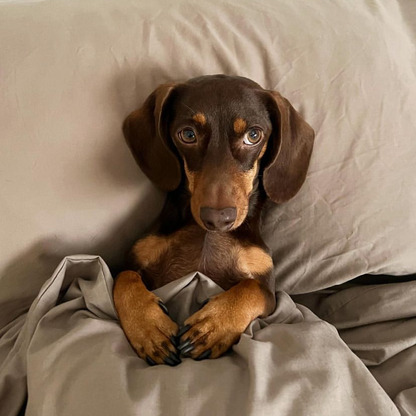dachshund: (98, 56, 333, 388)
